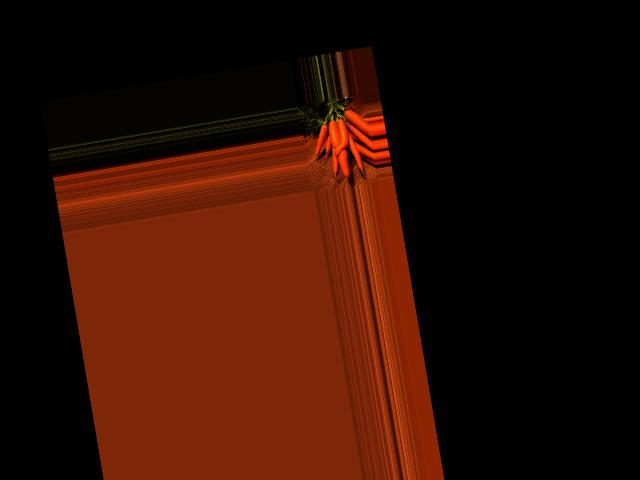carrot: (342, 104, 370, 138)
